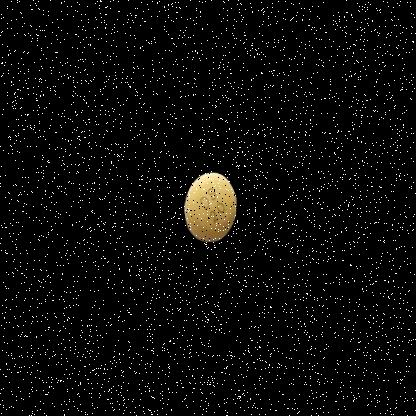rabeparzole20: (178, 156, 251, 260)
